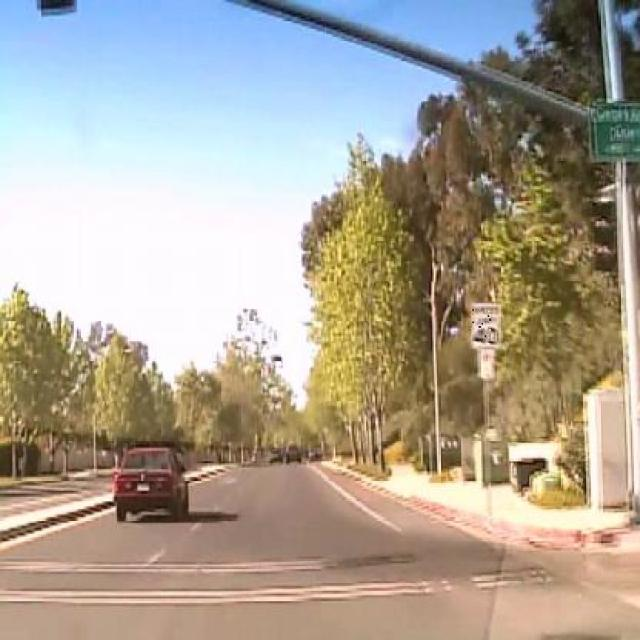speedLimit40: (471, 302, 499, 348)
